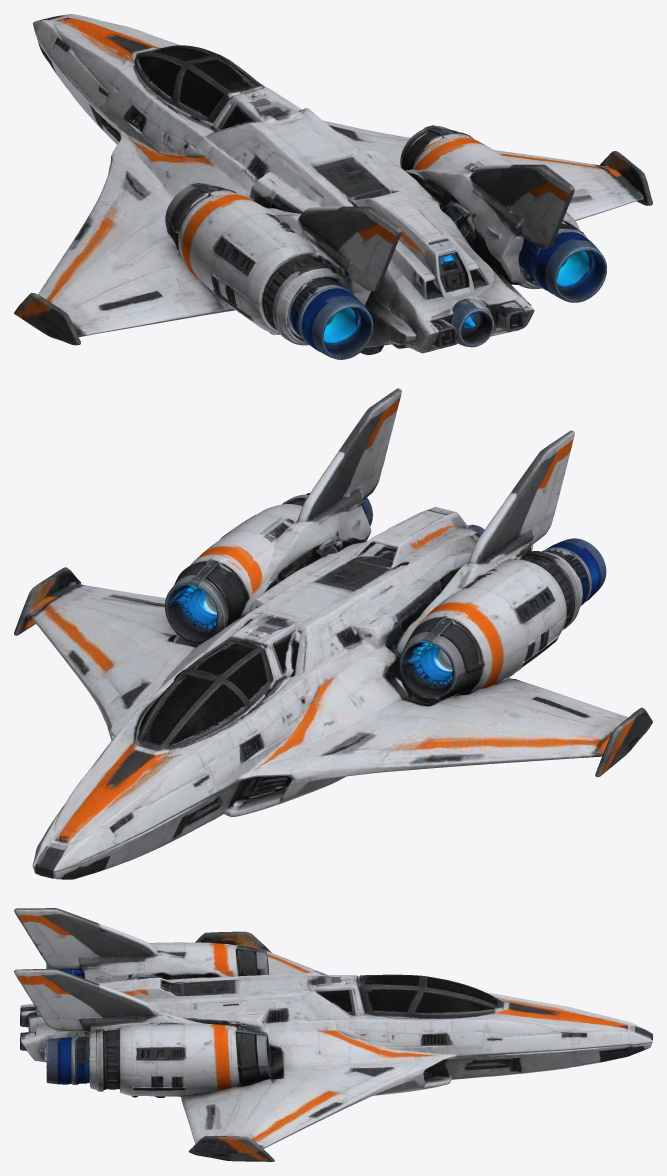
File: star-fighter.glb
The picture shows the model from 3 angles, top to bottom: view 1: azimuth 30°, elevation 25°; view 2: azimuth 150°, elevation 25°; view 3: azimuth 270°, elevation 25°; orthographic projection. The views are drawn at different scales.
Parts seen in each view (by area): view 1: spaceship; view 2: spaceship; view 3: spaceship.
Boxes of the visible parts, <box> form: spaceship: <box>14,14,652,359</box>; spaceship: <box>14,388,652,879</box>; spaceship: <box>14,908,652,1161</box>.
Bounding box in the file's own units: 10.71 × 3.37 × 14.
Materials: 1 (1 with a texture image).
